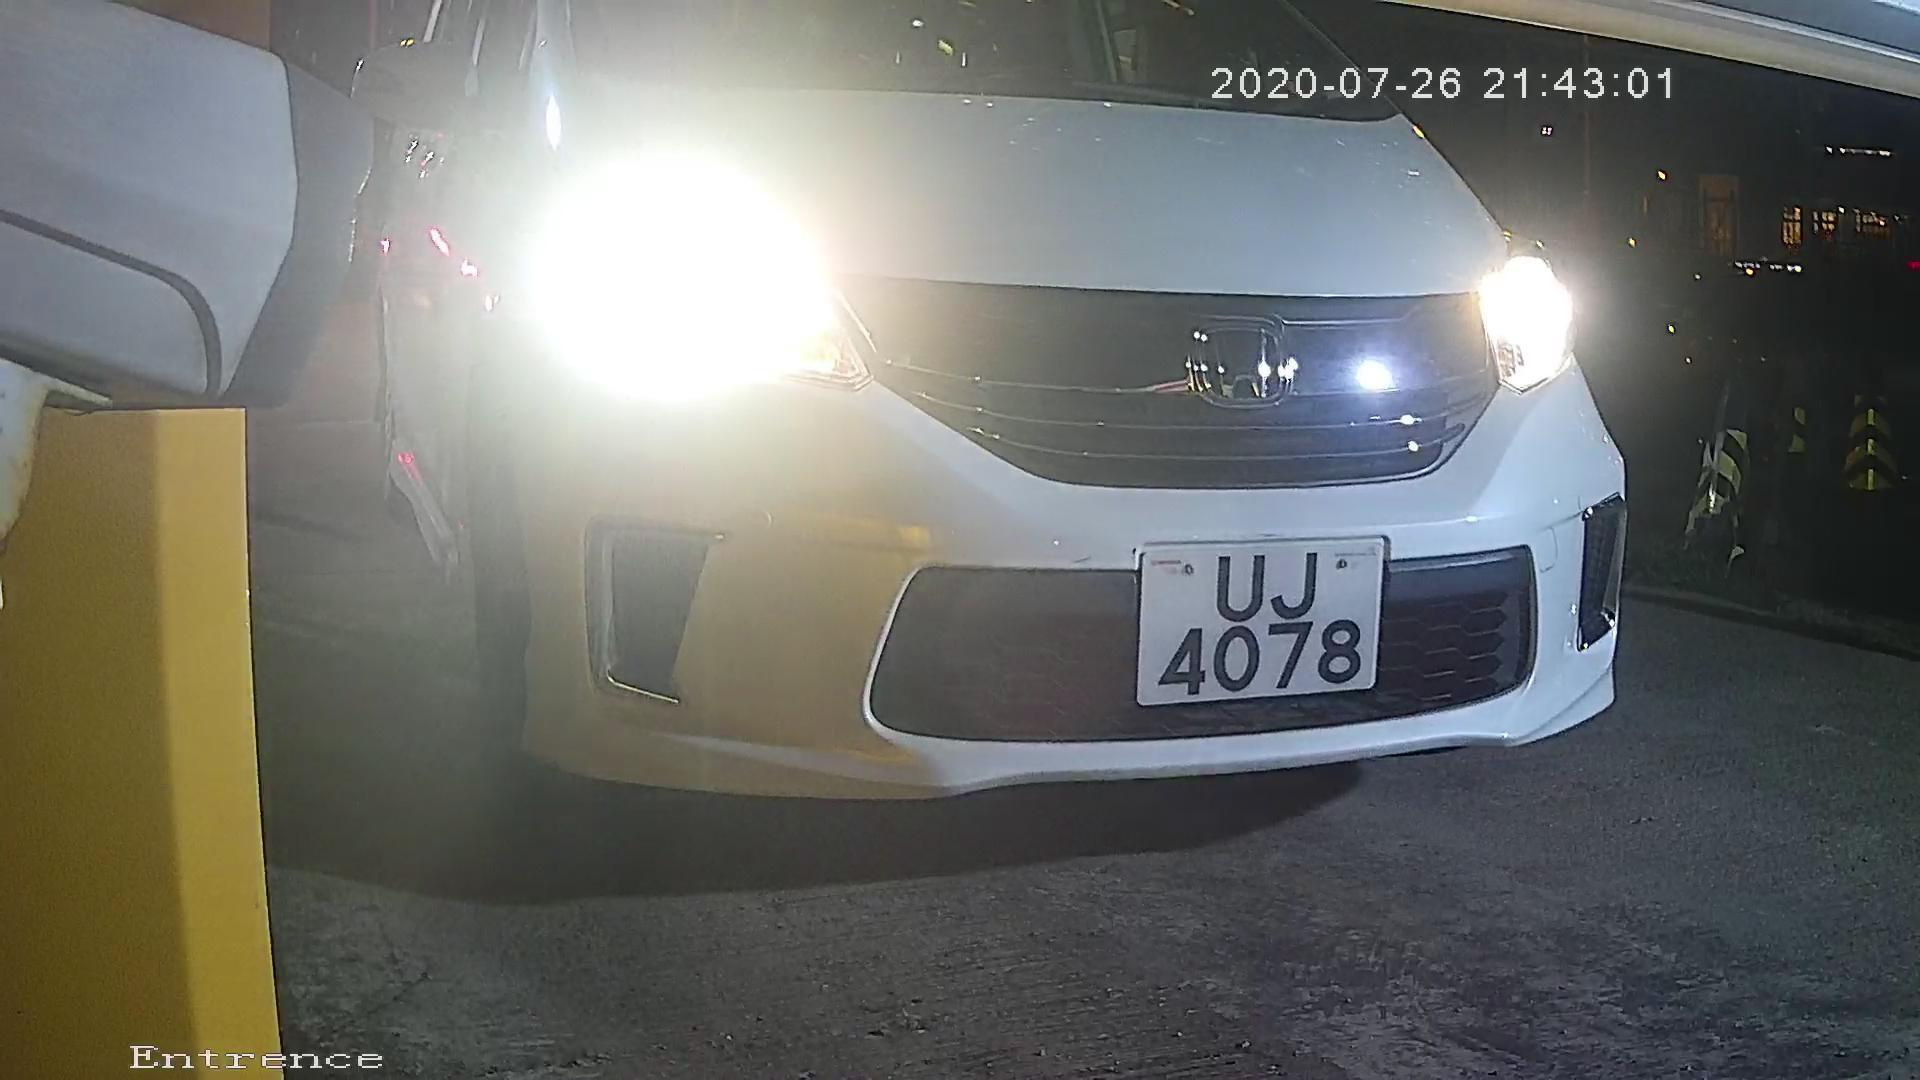Car: (112, 44, 1723, 897)
License Plate: (1115, 516, 1398, 729)
